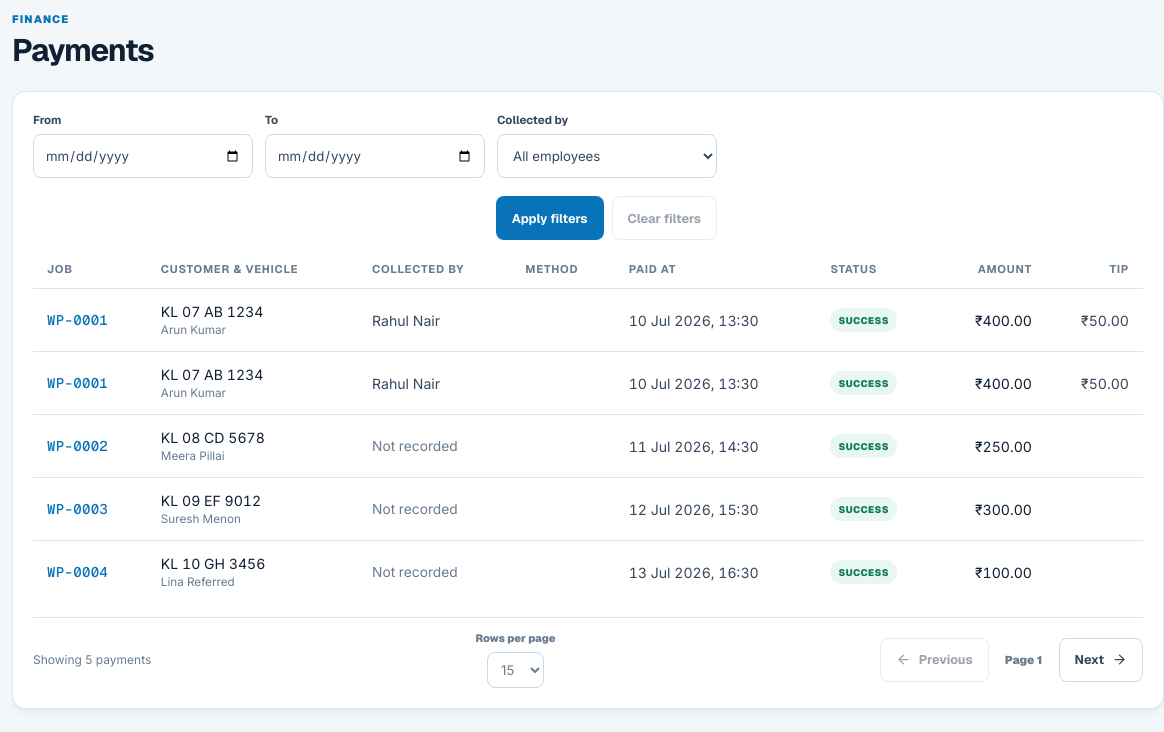
Test: Payments — server-side pagination › loads the next page with the cursor when Next is clicked
Click the button "Next" at (1101, 660), box [1059, 638, 1143, 682]
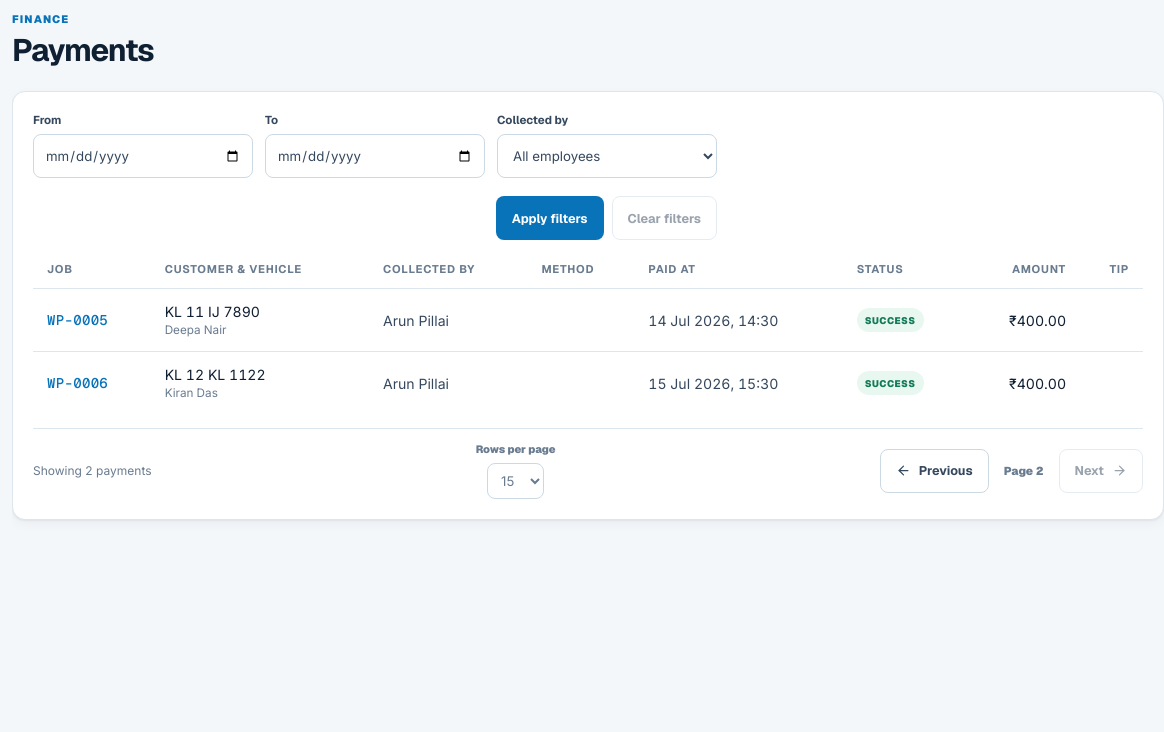
Check: the link "WP-0005" is shown, box [47, 311, 108, 329]
Check: the text "Page 2" is shown, box [1004, 463, 1044, 478]
Check: the text "Showing 2 payments" is shown, box [33, 463, 152, 478]
